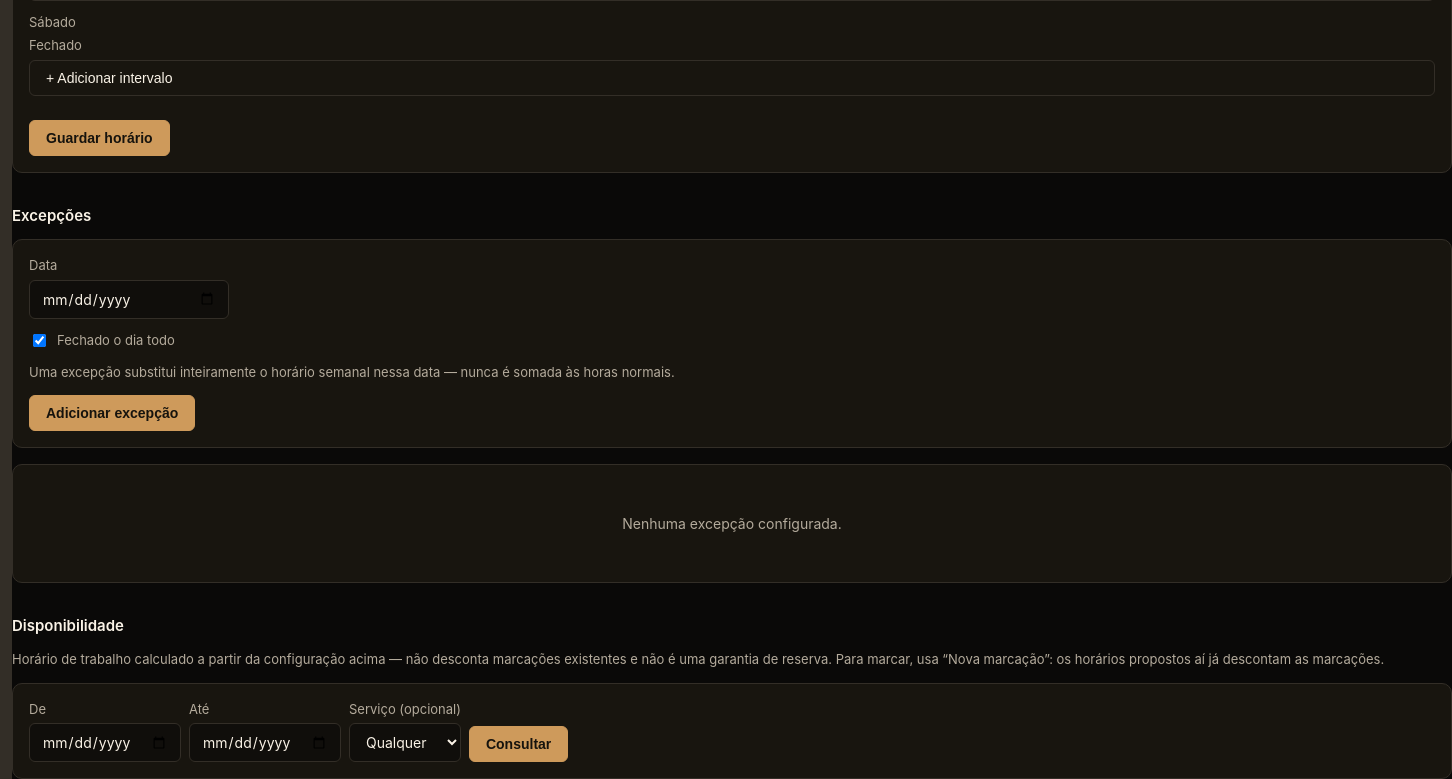
Test: ProfessionalDetailPage — availability preview (F26, ADR-041: working availability, not a booking guarantee) › submits the requested range and displays the computed working intervals with the resolved timezone
(page scrolled)
In the date field labelled "De": (105, 742) [29,723,181,762], type "2026-09-28"
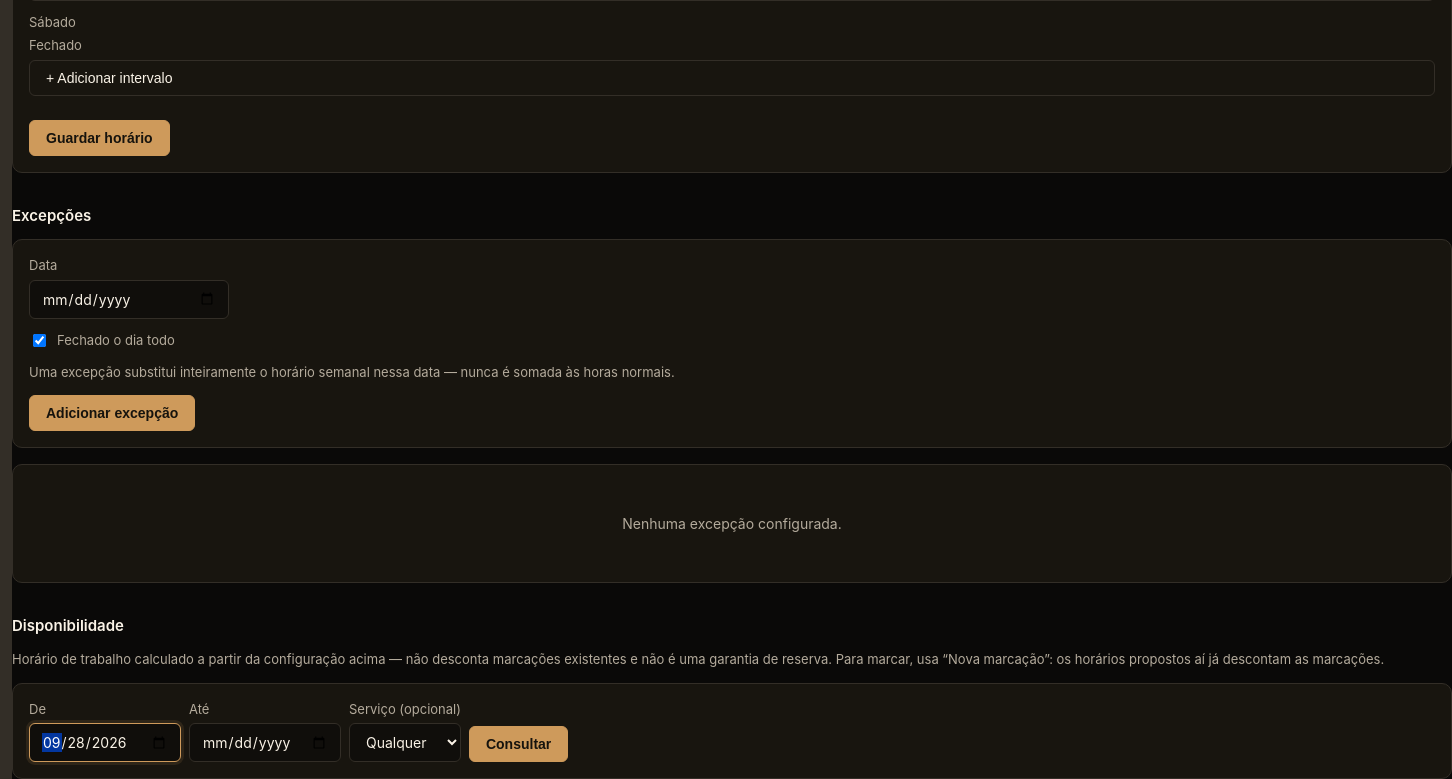
In the date field labelled "Até": (265, 742) [189,723,341,762], type "2026-09-28"
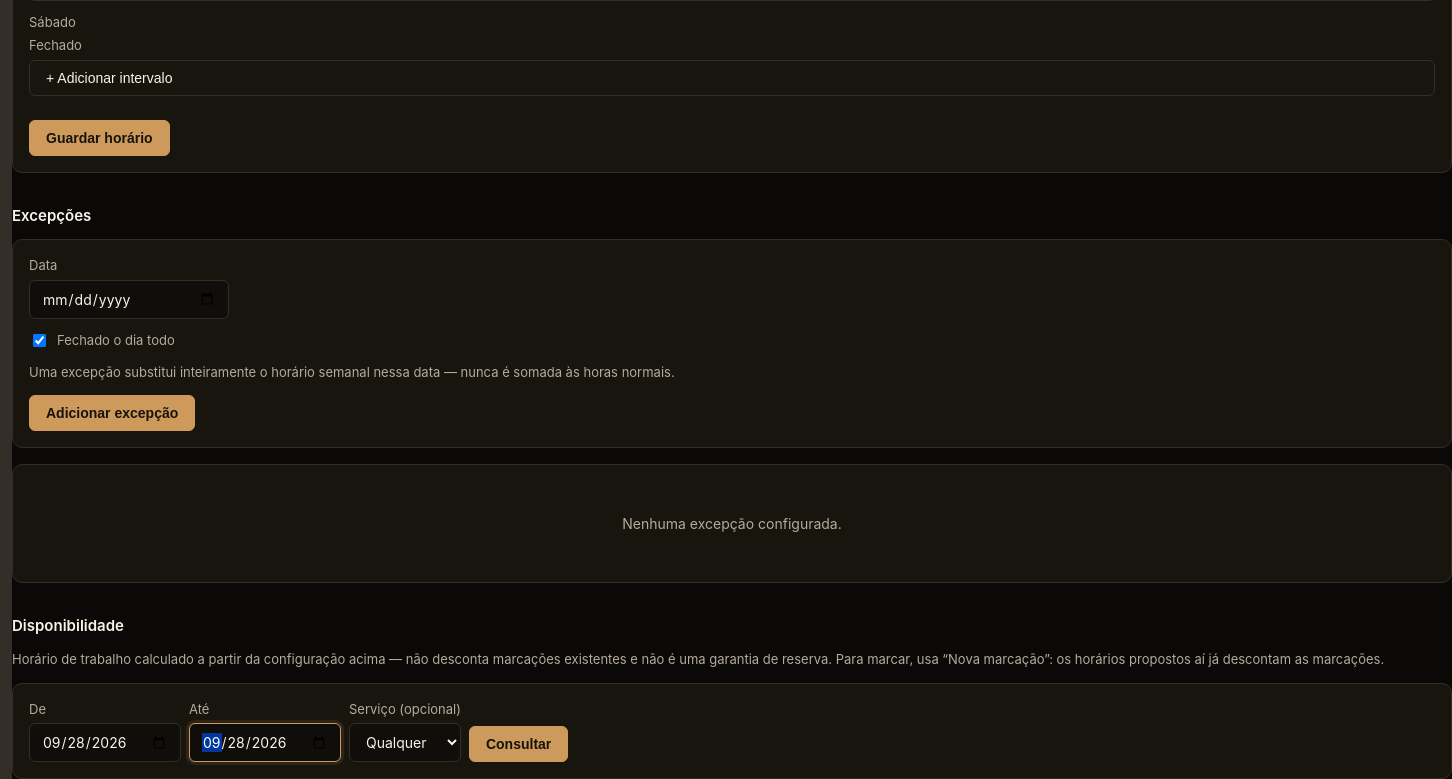
Click the button "Consultar": (519, 744) [469,726,568,762]
(page scrolled)
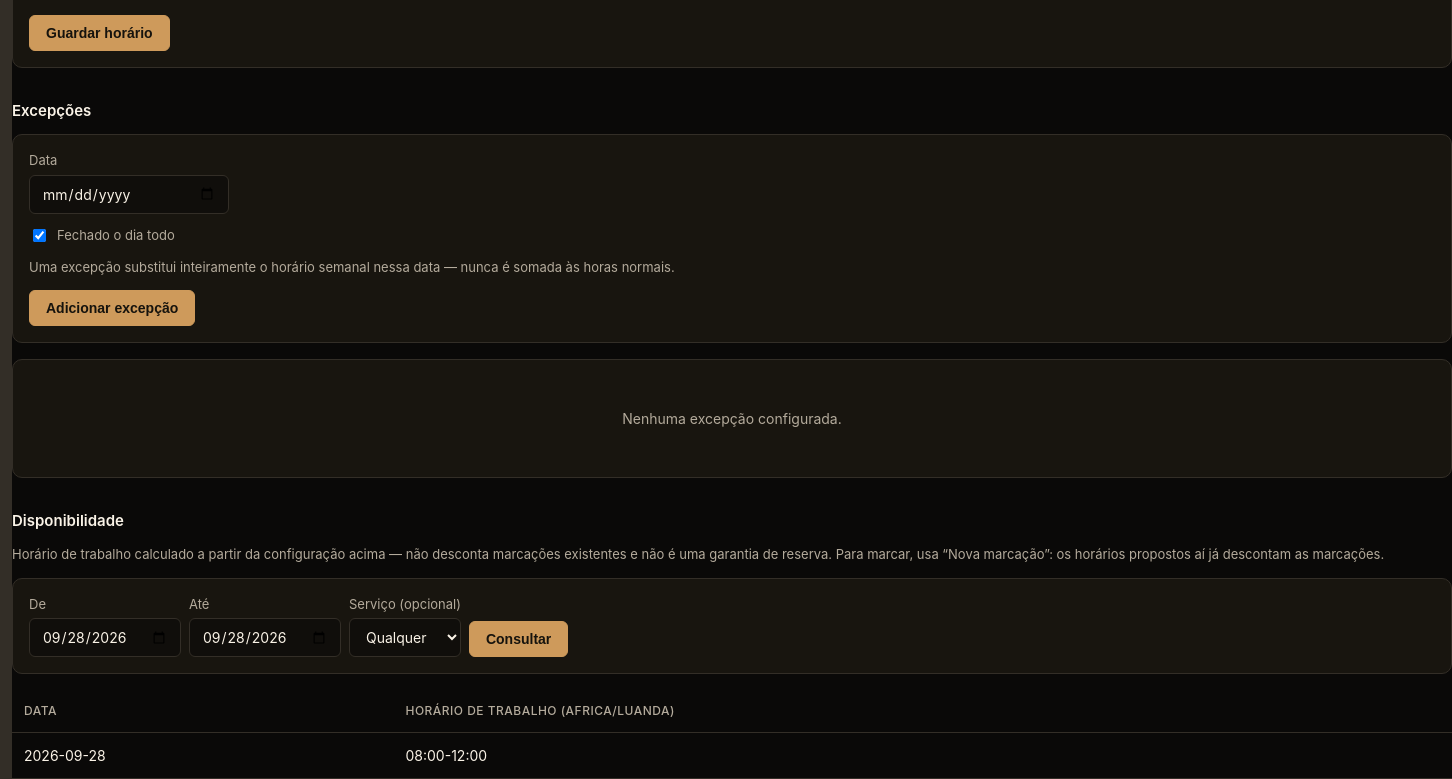
expect the column heading "Horário de trabalho (Africa/Luanda)" is shown: met, box [394,690,1451,732]
expect the text "08:00-12:00" is shown: met, box [394,732,1451,778]
